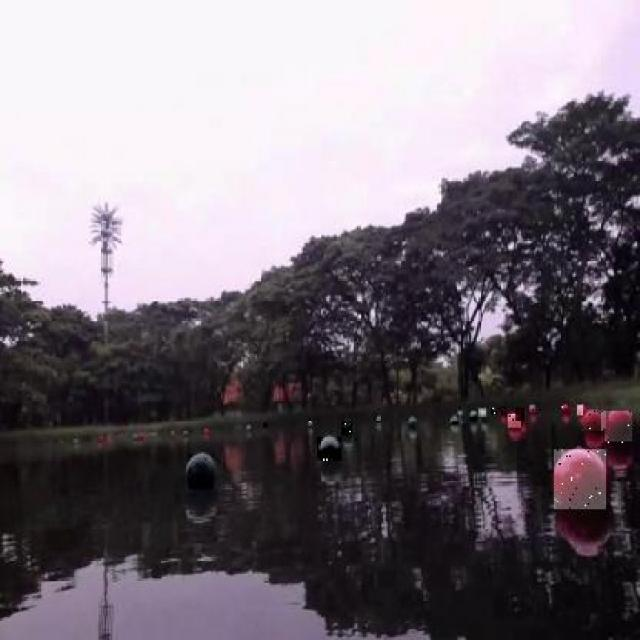green_ball: (184, 451, 217, 490), (318, 436, 341, 458), (408, 414, 420, 432), (477, 408, 488, 420), (447, 415, 458, 426), (457, 409, 463, 414), (74, 439, 80, 444), (471, 411, 476, 416), (246, 426, 251, 430), (377, 416, 380, 420), (308, 421, 312, 424), (182, 432, 188, 434), (134, 434, 138, 436)
red_ball: (554, 448, 606, 509), (606, 410, 631, 441), (581, 407, 603, 431), (560, 402, 571, 418), (500, 409, 511, 424), (518, 407, 527, 421), (578, 404, 586, 419), (507, 414, 516, 427), (528, 405, 536, 415), (202, 428, 209, 436), (139, 432, 144, 440), (98, 436, 102, 440)
